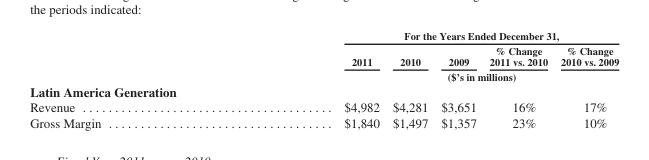table: (29, 29, 618, 129)
table column: (29, 29, 222, 129), (222, 29, 385, 129), (482, 29, 553, 129), (553, 29, 618, 129), (433, 29, 482, 129), (385, 29, 433, 129)
table column header: (29, 29, 618, 83)
table projected row header: (29, 83, 618, 98)
table row: (29, 42, 618, 68), (29, 98, 618, 114), (29, 68, 618, 83), (29, 83, 618, 98), (29, 114, 618, 129), (29, 29, 618, 42)
table spanning cell: (222, 68, 618, 83), (222, 29, 618, 42)
